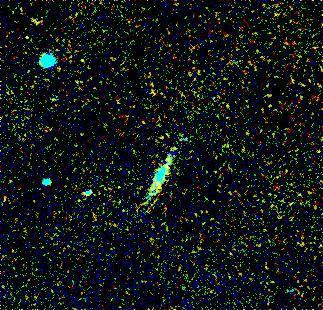star: (157, 134, 187, 164)
